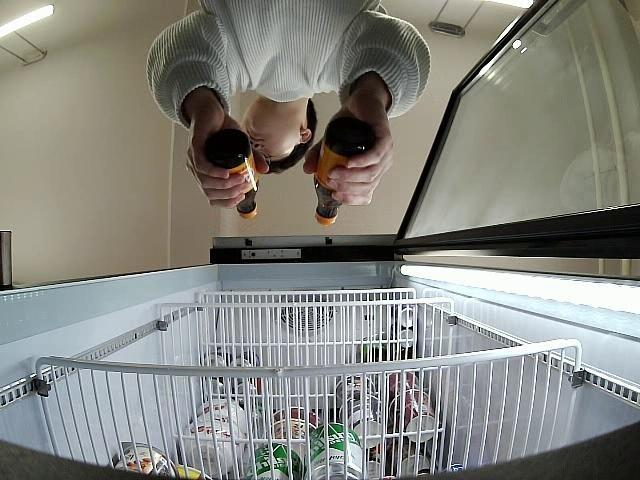17_vita500: (314, 114, 378, 226), (200, 128, 258, 219)
